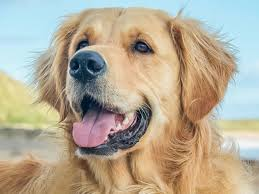Bulldog: (15, 2, 259, 194)
